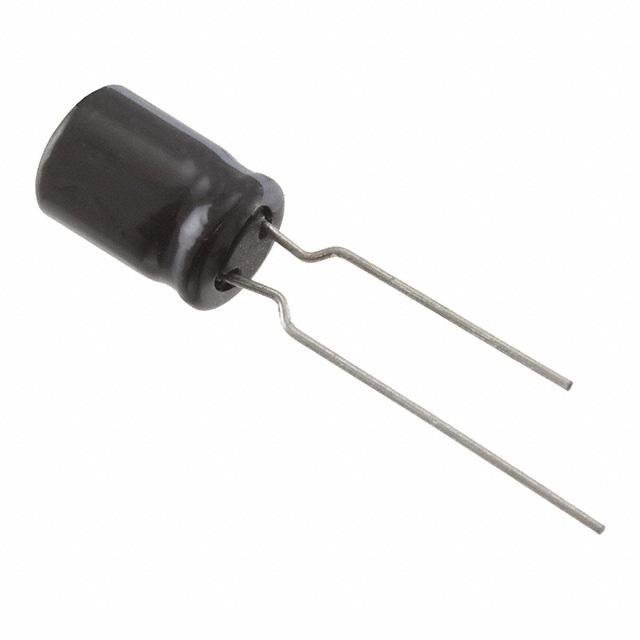Capacitor: (34, 85, 605, 536)
